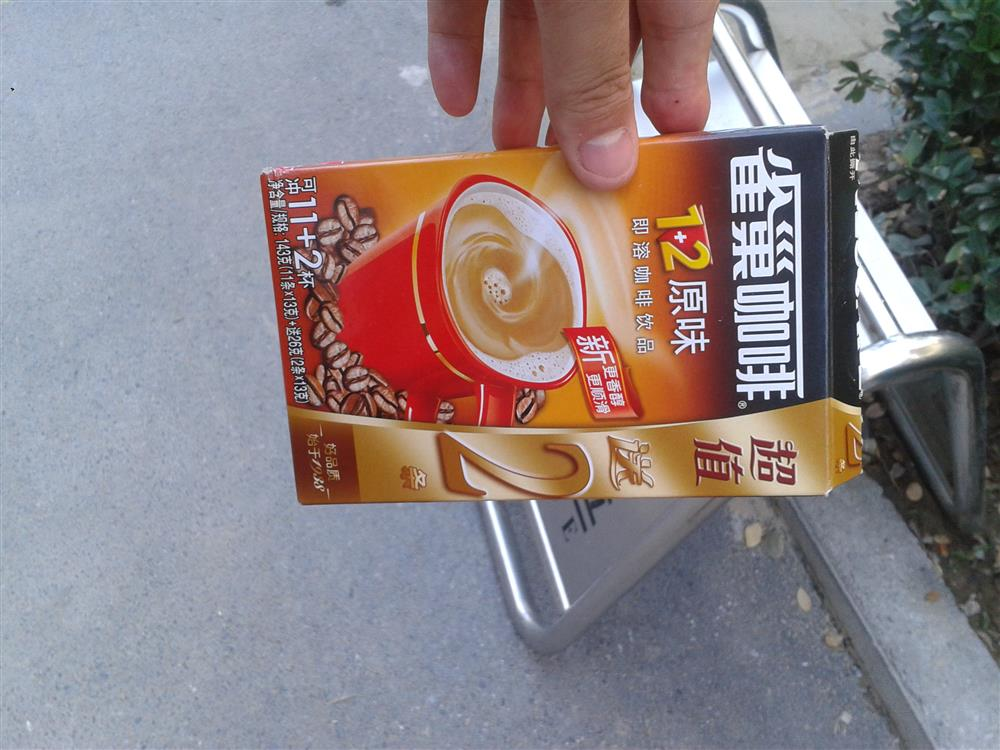Nestle: (252, 119, 872, 509)
